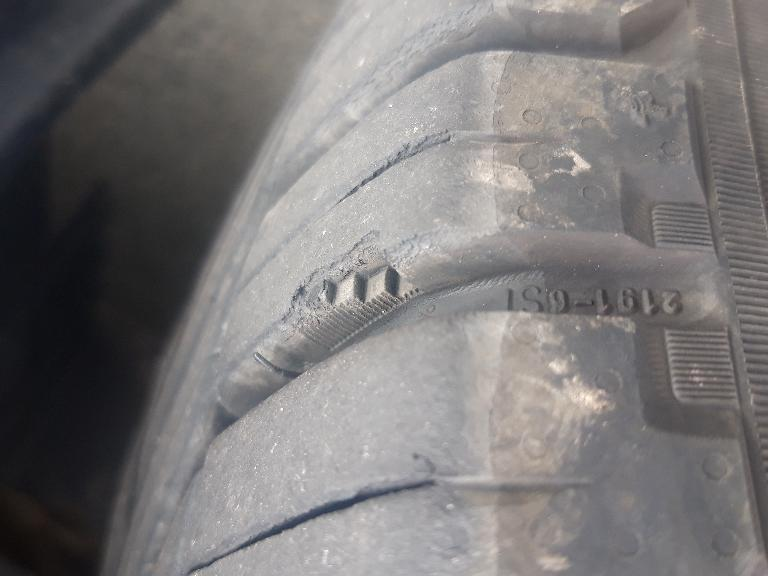temoin:80: (278, 225, 433, 356)
